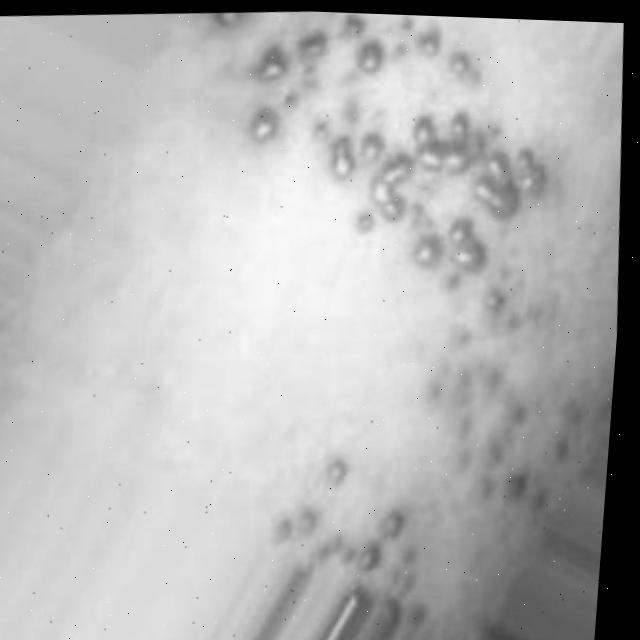Shingles: (190, 8, 574, 343), (410, 324, 617, 511), (257, 449, 439, 593)
